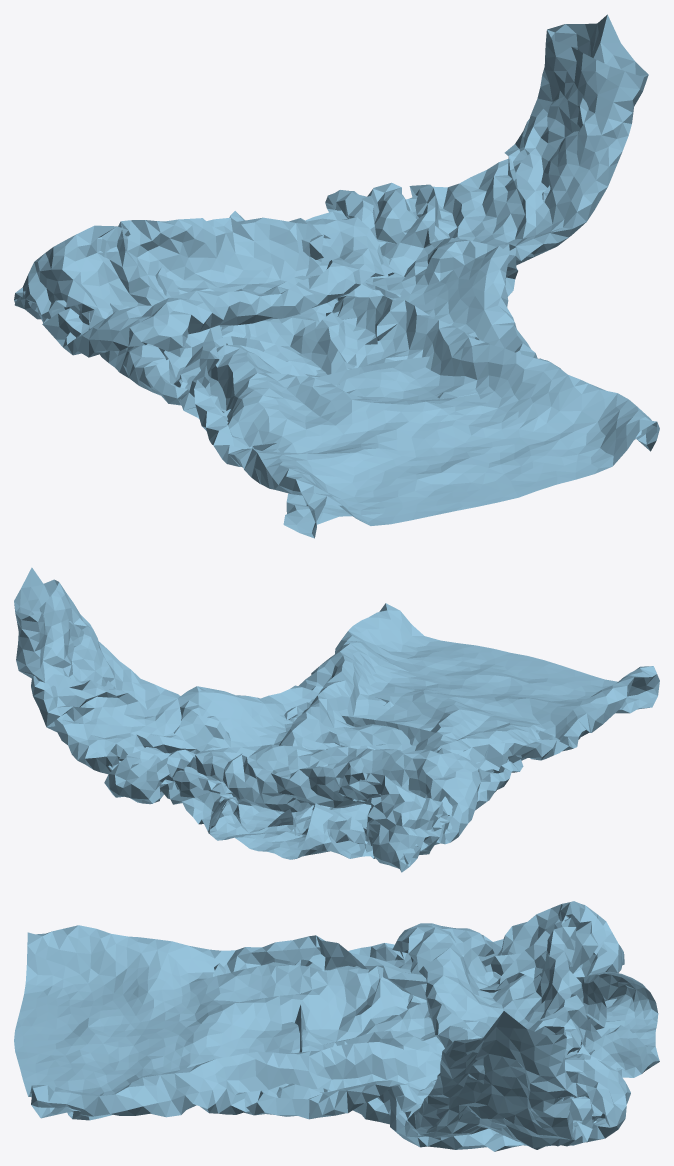
The model's file is frame_04.glb.
3 renders of one model, top to bottom at view 1: azimuth 30°, elevation 25°; view 2: azimuth 150°, elevation 25°; view 3: azimuth 270°, elevation 25°, orthographic. The views are drawn at different scales.
Parts seen in each view (by area): view 1: frame_04.obj; view 2: frame_04.obj; view 3: frame_04.obj.
Boxes of the visible parts, bbox=[...] form: frame_04.obj: bbox=[14, 14, 659, 538]; frame_04.obj: bbox=[14, 567, 659, 872]; frame_04.obj: bbox=[14, 901, 659, 1151].
Bounding box in the file's own units: 1.38 × 0.5086 × 1.42.
